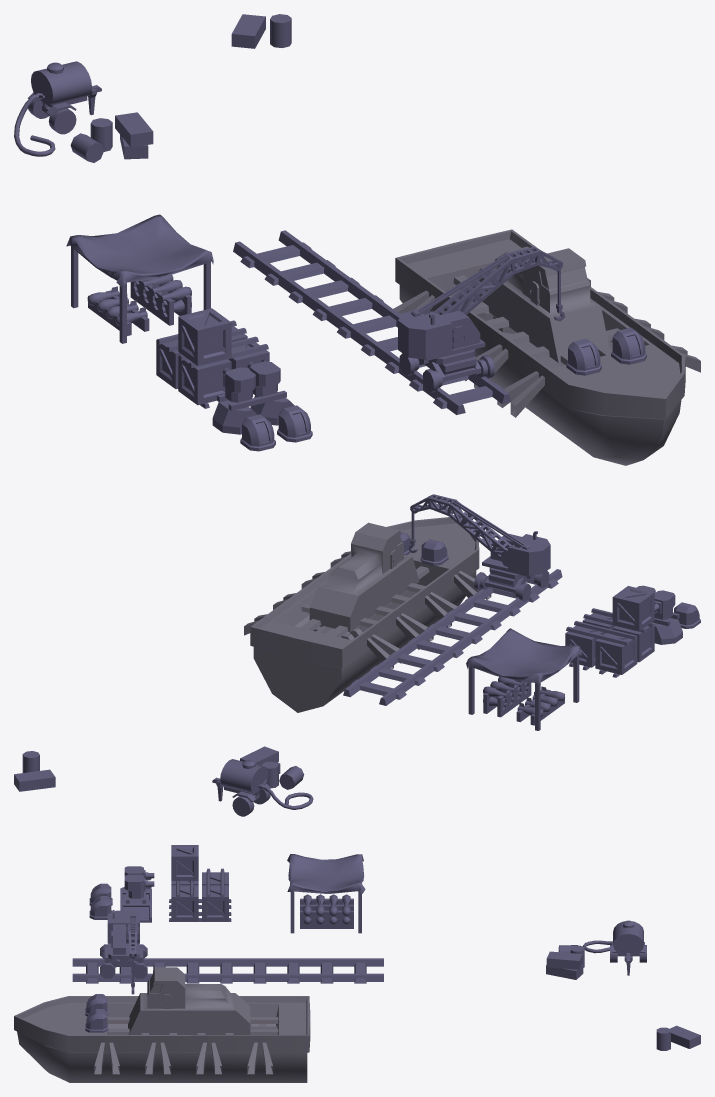
Rendered from Props_R_1.fbx.
3 renders of one model, top to bottom at view 1: azimuth 30°, elevation 25°; view 2: azimuth 150°, elevation 25°; view 3: azimuth 270°, elevation 25°, orthographic. The views are drawn at different scales.
Visible parts, largest first — view 1: Props_R_1.002, Props_R_1.001, Props_R_1.003, Props_R_1; view 2: Props_R_1.002, Props_R_1.001, Props_R_1.003, Props_R_1; view 3: Props_R_1.002, Props_R_1.001, Props_R_1.003, Props_R_1.
Part boxes in pixels (<box>): Props_R_1.002: <box>392,229,700,465</box>; Props_R_1.001: <box>66,214,312,451</box>; Props_R_1.003: <box>14,14,646,414</box>; Props_R_1: <box>398,247,564,392</box>; Props_R_1.002: <box>244,517,491,712</box>; Props_R_1.001: <box>466,585,700,730</box>; Props_R_1.003: <box>14,532,562,816</box>; Props_R_1: <box>408,494,550,601</box>; Props_R_1.002: <box>14,967,310,1082</box>; Props_R_1.001: <box>89,845,365,933</box>; Props_R_1.003: <box>72,920,700,1050</box>; Props_R_1: <box>100,910,147,994</box>.
Bounding box in the file's own units: 73.29 × 30.22 × 138.
